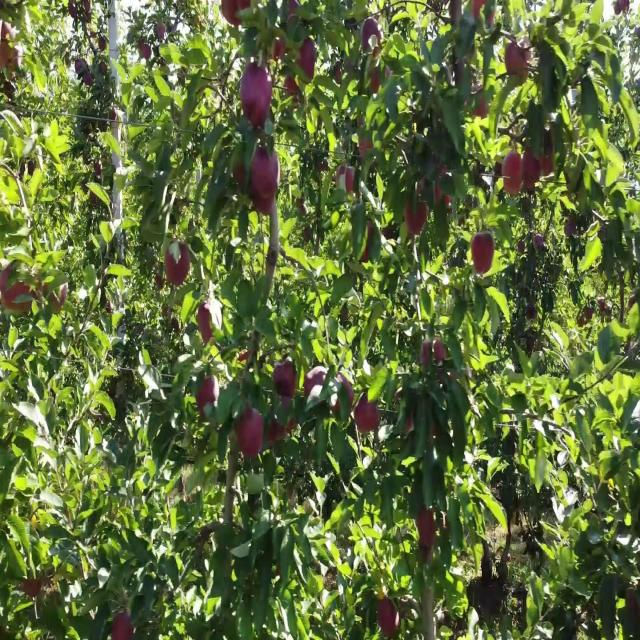apple: (240, 63, 273, 128), (236, 405, 264, 460), (252, 149, 280, 194), (4, 270, 32, 313), (504, 42, 532, 84), (472, 234, 496, 277), (196, 376, 219, 418), (416, 504, 437, 548), (168, 248, 192, 286), (272, 362, 297, 398), (356, 398, 381, 434), (404, 199, 428, 236), (4, 270, 24, 313), (380, 597, 400, 639), (504, 156, 523, 199), (268, 419, 296, 448), (224, 0, 252, 28), (296, 42, 316, 78), (524, 149, 541, 190), (364, 21, 382, 59), (196, 305, 214, 343), (112, 611, 136, 639), (472, 0, 496, 27), (436, 170, 452, 210), (252, 191, 276, 217), (304, 369, 325, 398), (424, 341, 448, 366), (20, 575, 43, 599), (272, 419, 296, 441), (16, 284, 33, 315), (340, 376, 355, 411), (52, 284, 68, 313), (540, 149, 556, 178), (472, 92, 488, 121), (340, 170, 356, 196), (628, 590, 640, 624), (272, 42, 288, 64), (372, 71, 387, 94), (284, 78, 299, 98), (360, 142, 375, 162), (236, 163, 248, 187), (288, 1, 300, 25), (372, 71, 383, 94), (156, 21, 167, 43), (140, 42, 152, 62), (448, 7, 463, 23), (240, 348, 255, 363), (616, 0, 630, 16), (4, 42, 11, 68), (76, 56, 84, 76), (84, 71, 95, 85), (408, 412, 414, 434), (68, 7, 77, 20), (4, 21, 11, 37), (336, 71, 344, 85), (100, 35, 106, 50), (364, 248, 370, 263)
